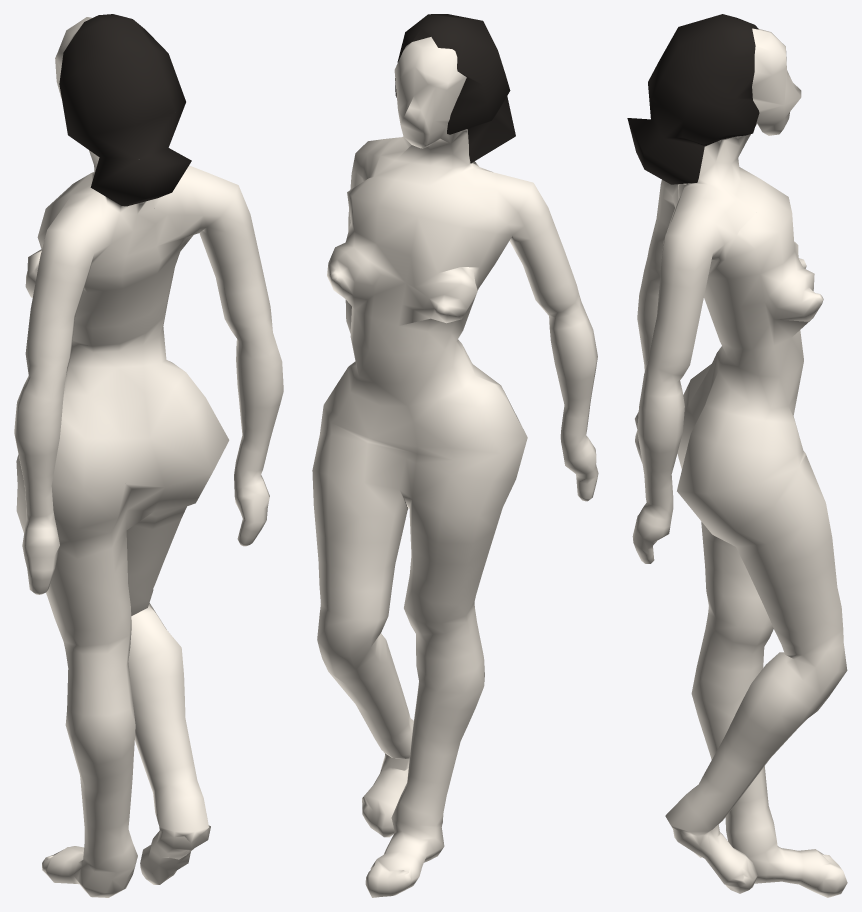
Rendered from nude-study.fbx.
3 renders of one model, left to right at view 1: azimuth 30°, elevation 25°; view 2: azimuth 150°, elevation 25°; view 3: azimuth 270°, elevation 25°, orthographic. The views are drawn at different scales.
Visible parts, largest first — view 1: unamed; view 2: unamed; view 3: unamed.
Part boxes in pixels (left/top/right/bottom): unamed: left=14, top=14, right=283, bottom=897; unamed: left=312, top=14, right=598, bottom=897; unamed: left=627, top=14, right=847, bottom=897.
Size of the model in its own units: 0.2878 by 0.942 by 0.2157.
1 material, 1 textured.
